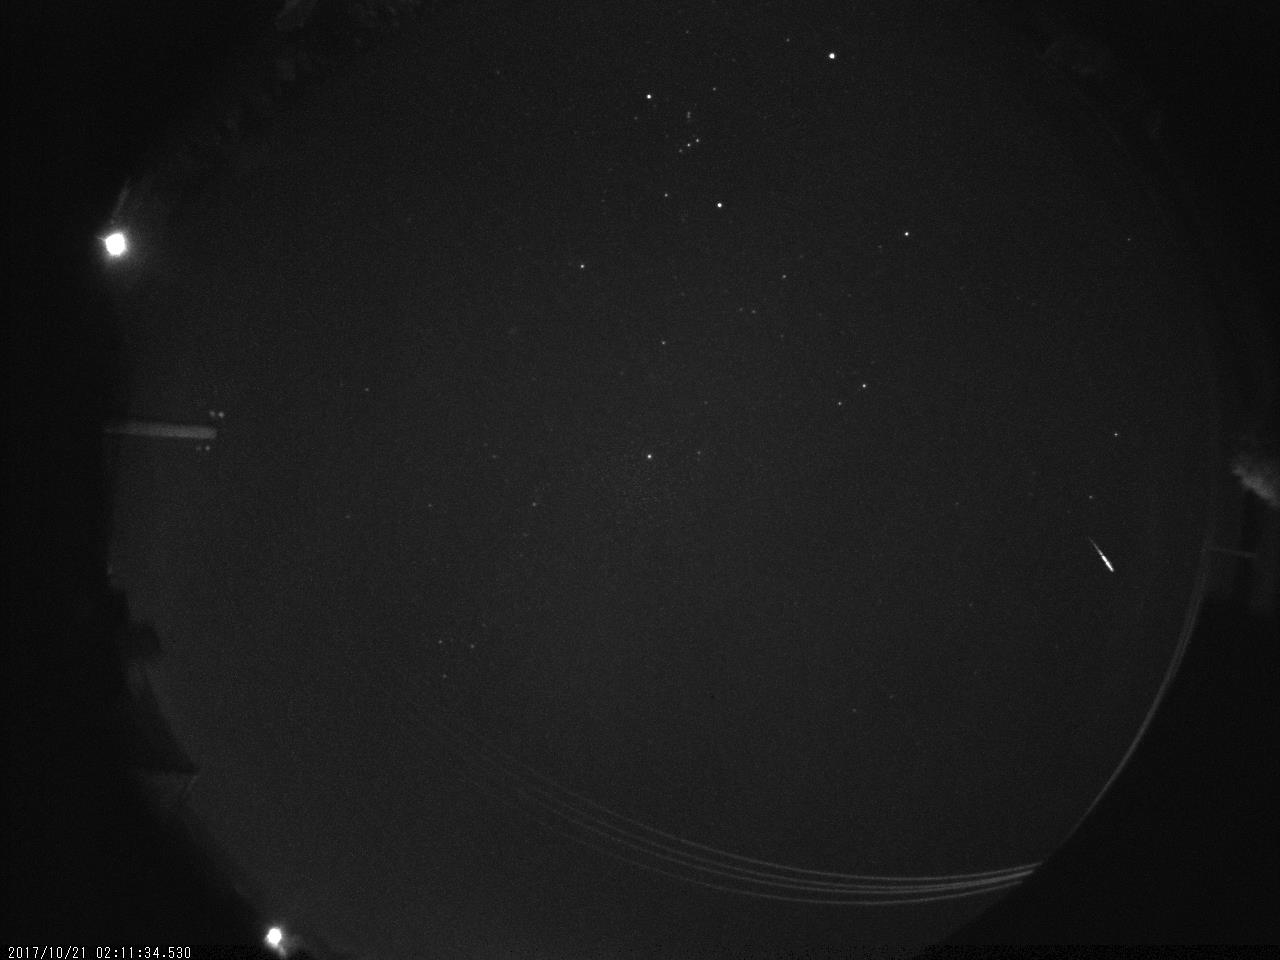meteor: (1080, 534, 1124, 585)
